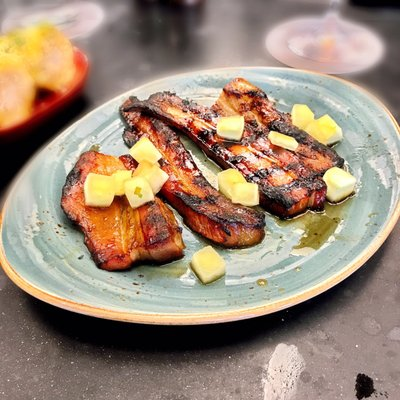sushi: (0, 20, 89, 145)
